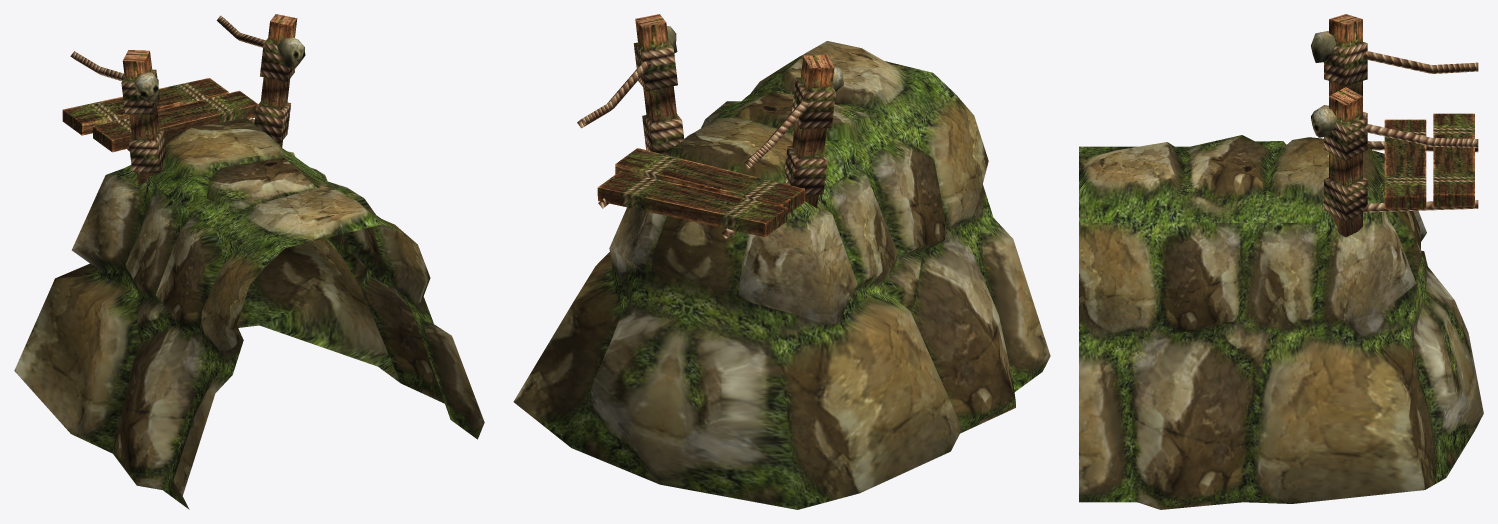
Rendered from StoneRoad03.FBX.
The picture shows the model from 3 angles, left to right: view 1: azimuth 30°, elevation 25°; view 2: azimuth 150°, elevation 25°; view 3: azimuth 270°, elevation 25°; orthographic projection. The views are drawn at different scales.
Parts seen in each view (by area): view 1: StoneRoad03, StoneRoadBridge; view 2: StoneRoad03, StoneRoadBridge; view 3: StoneRoad03, StoneRoadBridge.
Part boxes in pixels (x1,y1,x2,y2): StoneRoad03: (14, 118, 484, 509); StoneRoadBridge: (62, 14, 305, 184); StoneRoad03: (513, 41, 1050, 509); StoneRoadBridge: (577, 14, 843, 238); StoneRoad03: (1079, 135, 1483, 509); StoneRoadBridge: (1311, 14, 1478, 236).
Bounding box in the file's own units: 505 × 514 × 507.
